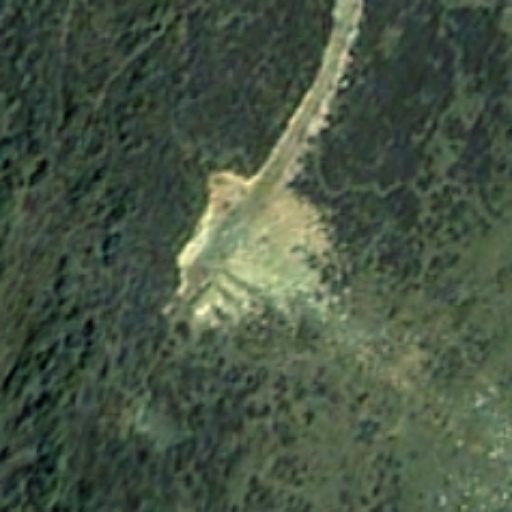landslide: (181, 172, 328, 304)
